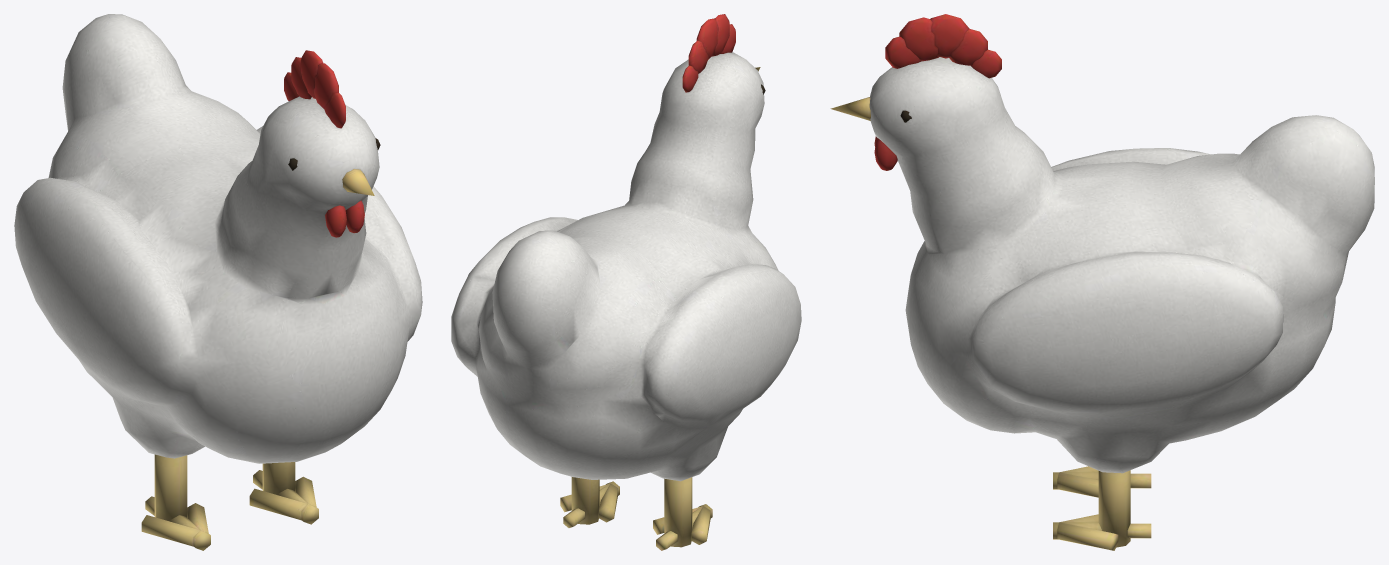
The model's file is hen.glb.
3 renders of one model, left to right at view 1: azimuth 30°, elevation 25°; view 2: azimuth 150°, elevation 25°; view 3: azimuth 270°, elevation 25°, orthographic. The views are drawn at different scales.
Visible parts, largest first — view 1: hen; view 2: hen; view 3: hen.
Boxes of the visible parts, x1,y1,x2,y2 form: hen: (14,14,422,550); hen: (451,14,801,550); hen: (830,14,1374,550).
Size of the model in its own units: 0.2701 by 0.45 by 0.4424.
1 material, 1 textured.
